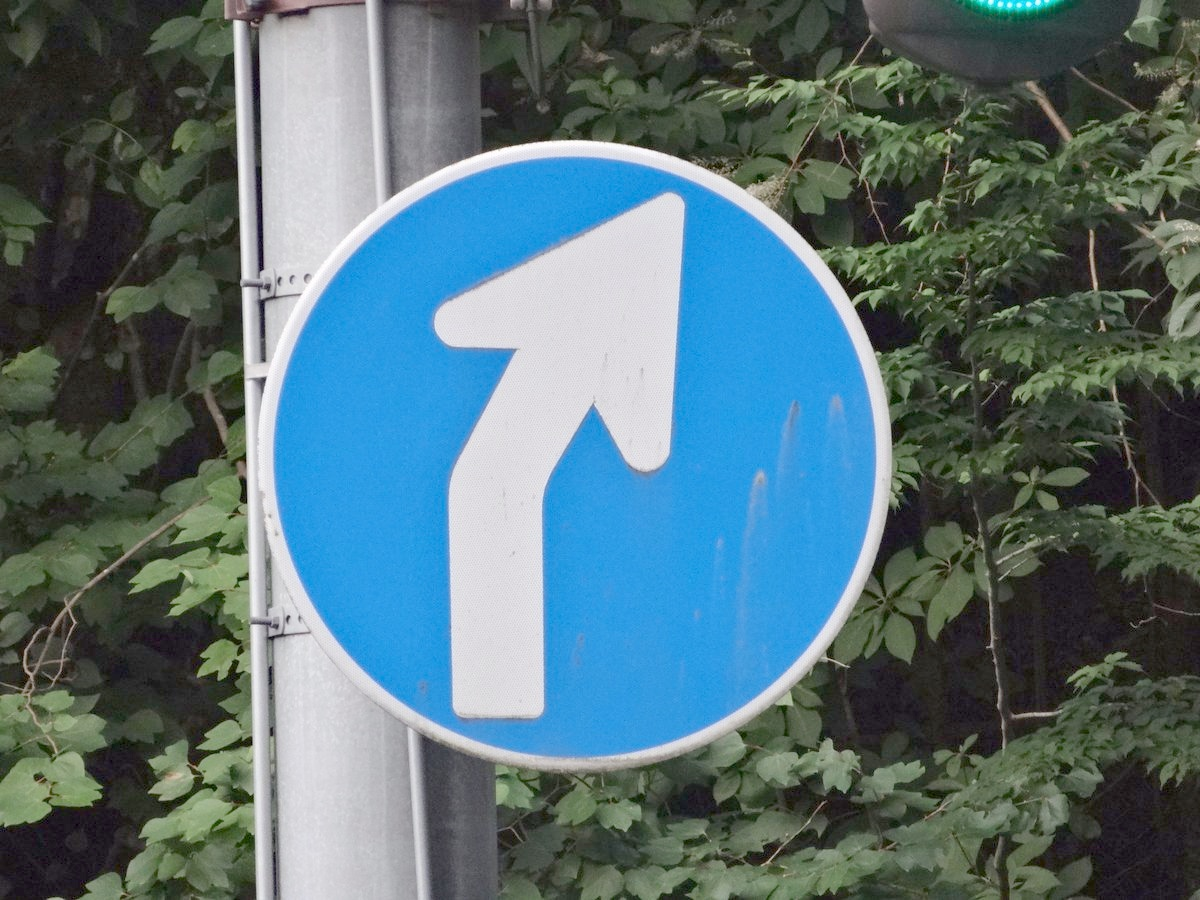Direction_sign: (251, 122, 932, 805)
